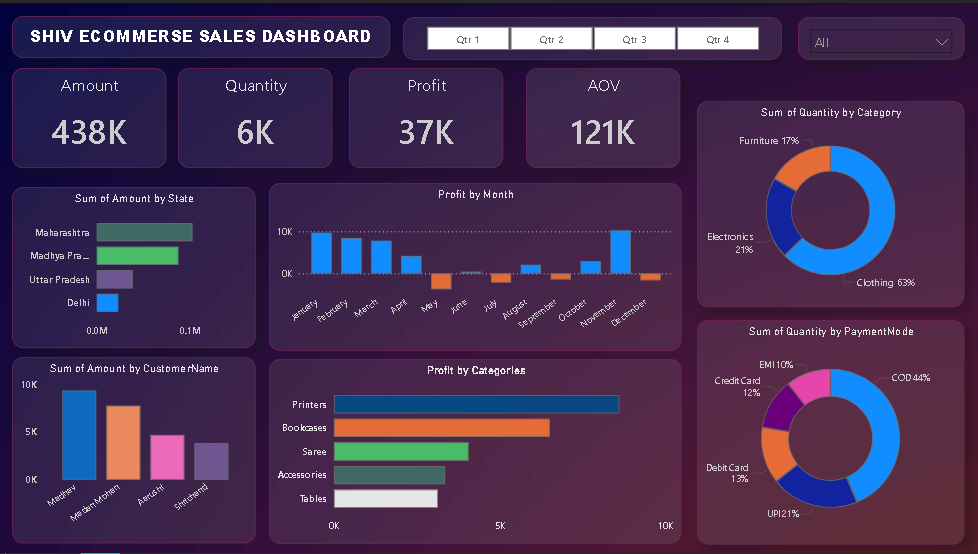

Layout of this report page (visuals, bound fields, positions):
{"tool":"powerbi","page":{"name":"Page 1","canvas":[1280,720],"ordinal":0},"visuals":[{"type":"textbox","box":[15.5,17.3,495.5,55.5],"z":0},{"type":"columnChart","title":"Profit by Month","fields":{"Category":["Orders.Order Date.Variation.Date Hierarchy.Month"],"Y":["Sum(Details.Profit)"]},"box":[352,236,540,220],"z":1000},{"type":"barChart","title":"Profit by Categories","fields":{"Y":["Sum(Details.Profit)"],"Category":["Details.Sub-Category"]},"box":[352,466,540,242],"z":2000},{"type":"donutChart","fields":{"Category":["Details.Category"],"Y":["Sum(Details.Quantity)"]},"box":[912.5,127.8,349.7,270.4],"z":3000},{"type":"donutChart","fields":{"Category":["Details.PaymentMode"],"Y":["Sum(Details.Quantity)"]},"box":[912.5,414.4,349.7,293.9],"z":4000},{"type":"cardVisual","title":"Amount ","fields":{"Data":["Sum(Details.Amount)"]},"box":[15.5,85.5,201.8,130.9],"z":5000},{"type":"cardVisual","title":"Profit","fields":{"Data":["Sum(Details.Profit)"]},"box":[457.3,85.5,201.8,130.9],"z":6000},{"type":"cardVisual","title":"Quantity","fields":{"Data":["Sum(Details.Quantity)"]},"box":[233.6,85.5,201.8,130.9],"z":7000},{"type":"columnChart","fields":{"Category":["Orders.CustomerName"],"Y":["Sum(Details.Amount)"]},"box":[15.1,463.6,319.2,243.6],"z":8000},{"type":"barChart","fields":{"Category":["Orders.State"],"Y":["Sum(Details.Amount)"]},"box":[15.5,240.9,319.1,210.9],"z":9000},{"type":"cardVisual","title":"AOV","fields":{"Data":["Sum(Details.AOV)"]},"box":[689.1,85.5,201.8,130.9],"z":10000},{"type":"slicer","fields":{"Values":["Orders.Order Date.Variation.Date Hierarchy.Quarter"]},"box":[528,18,496,56],"z":11000},{"type":"slicer","fields":{"Values":["Orders.State"]},"box":[1044,18,218,56],"z":12000}]}

Visuals, with their boxes in screenshot pixels (x1, y1, x2, y2), scaled from the page's 1280x720 canvas onto the 978x554 screenshot:
textbox: locate(12, 13, 390, 56)
"Profit by Month" columnChart: locate(269, 182, 682, 351)
"Profit by Categories" barChart: locate(269, 359, 682, 545)
donutChart - Details.Category x Sum(Details.Quantity): locate(697, 98, 964, 306)
donutChart - Details.PaymentMode x Sum(Details.Quantity): locate(697, 319, 964, 545)
"Amount " cardVisual: locate(12, 66, 166, 167)
"Profit" cardVisual: locate(349, 66, 504, 167)
"Quantity" cardVisual: locate(178, 66, 333, 167)
columnChart - Orders.CustomerName x Sum(Details.Amount): locate(12, 357, 255, 544)
barChart - Orders.State x Sum(Details.Amount): locate(12, 185, 256, 348)
"AOV" cardVisual: locate(527, 66, 681, 167)
slicer - Orders.Order Date.Variation.Date Hierarchy.Quarter: locate(403, 14, 782, 57)
slicer - Orders.State: locate(798, 14, 964, 57)
